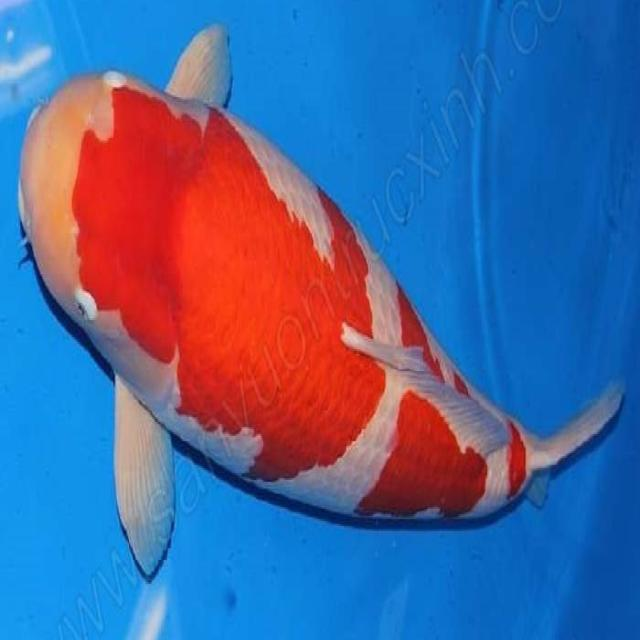Kohaku: (16, 20, 624, 584)
